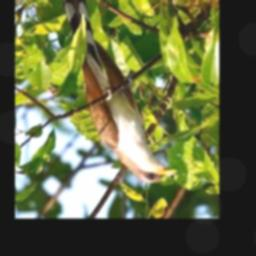Cuckoo: (61, 0, 177, 183)
